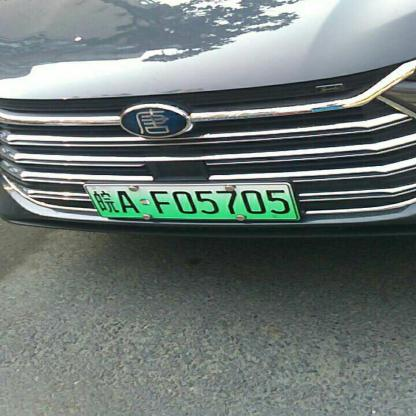lp: (84, 184, 298, 217)
